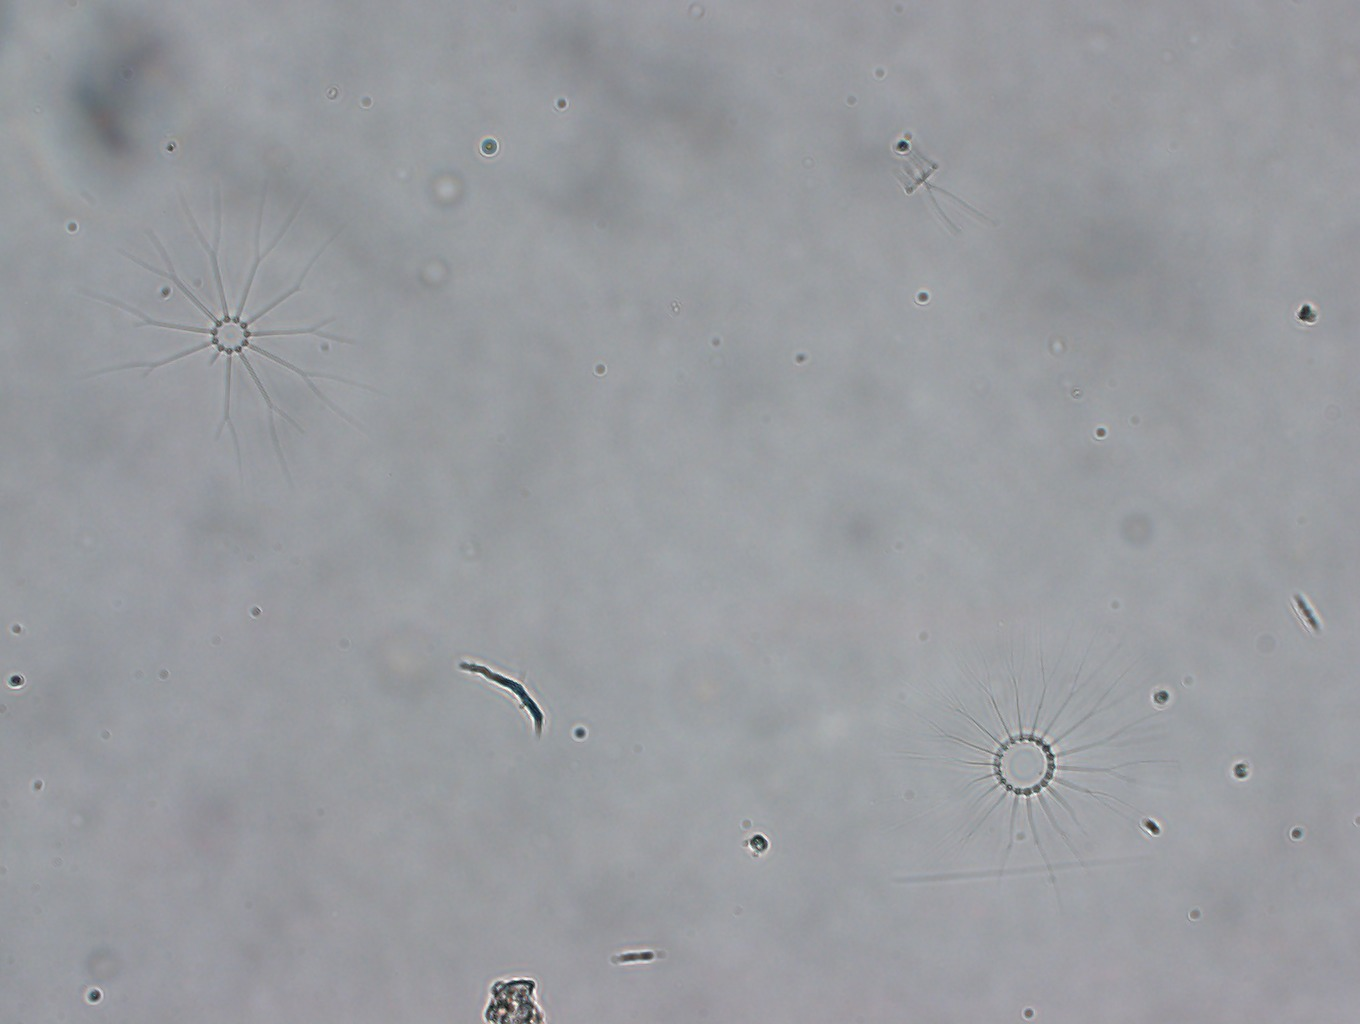bacteriastrum: (82, 186, 383, 493), (903, 623, 1183, 908)
